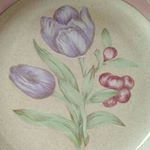other: (37, 3, 100, 59)
